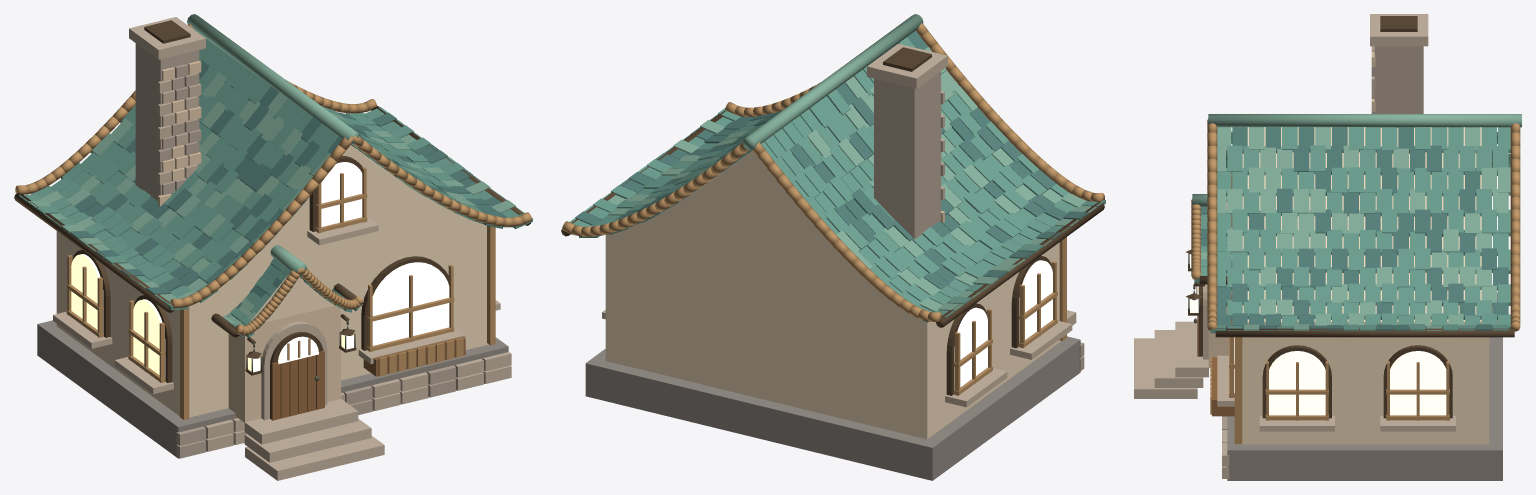
File: house_main.glb
The picture shows the model from 3 angles, left to right: view 1: azimuth 30°, elevation 25°; view 2: azimuth 150°, elevation 25°; view 3: azimuth 270°, elevation 25°; orthographic projection. The views are drawn at different scales.
Visible parts, largest first — view 1: house_main; view 2: house_main; view 3: house_main.
Part boxes in pixels (x1,y1,x2,y2): house_main: [14, 14, 532, 480]; house_main: [561, 14, 1105, 480]; house_main: [1134, 14, 1521, 480].
Size of the model in its own units: 9.72 by 8.78 by 9.14.
